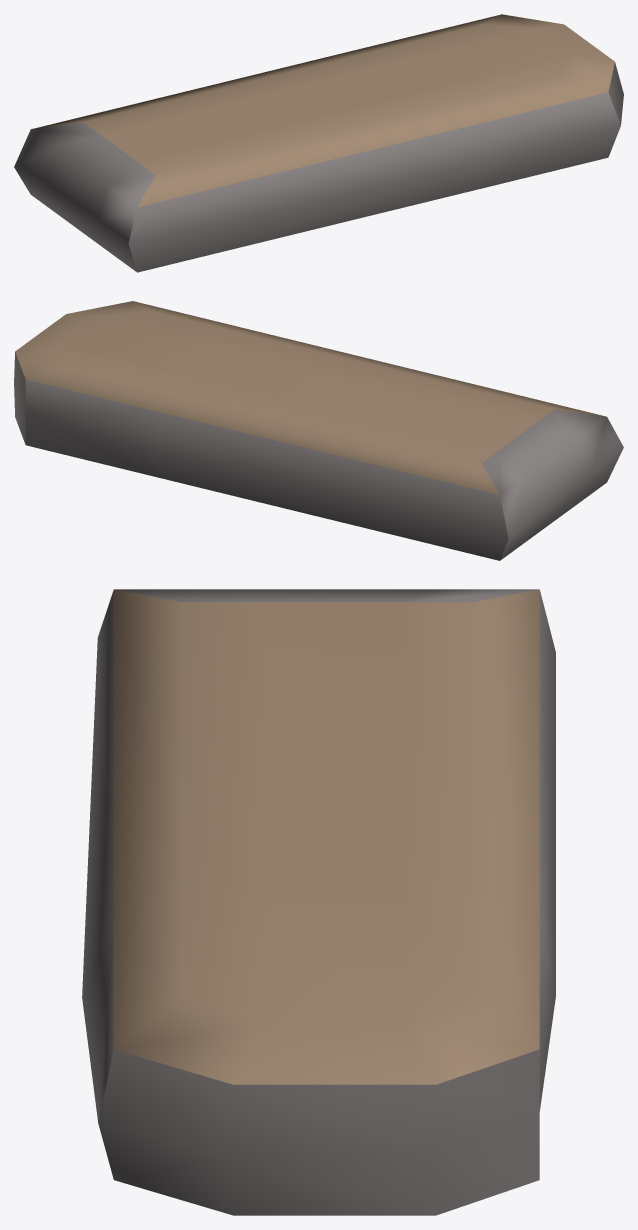
The model's file is Steg_1.fbx.
The picture shows the model from 3 angles, top to bottom: view 1: azimuth 30°, elevation 25°; view 2: azimuth 150°, elevation 25°; view 3: azimuth 270°, elevation 25°; orthographic projection. The views are drawn at different scales.
Visible parts, largest first — view 1: Steg_1; view 2: Steg_1; view 3: Steg_1.
Boxes of the visible parts, <box> form: Steg_1: <box>14,14,623,272</box>; Steg_1: <box>14,301,623,560</box>; Steg_1: <box>82,589,555,1215</box>.
Size of the model in its own units: 2605 by 360 by 1015.
